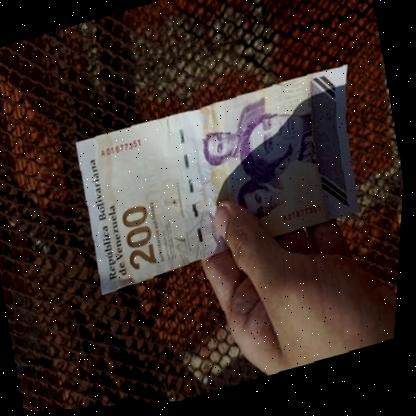two_hundred-front-vef: (67, 66, 380, 301)
